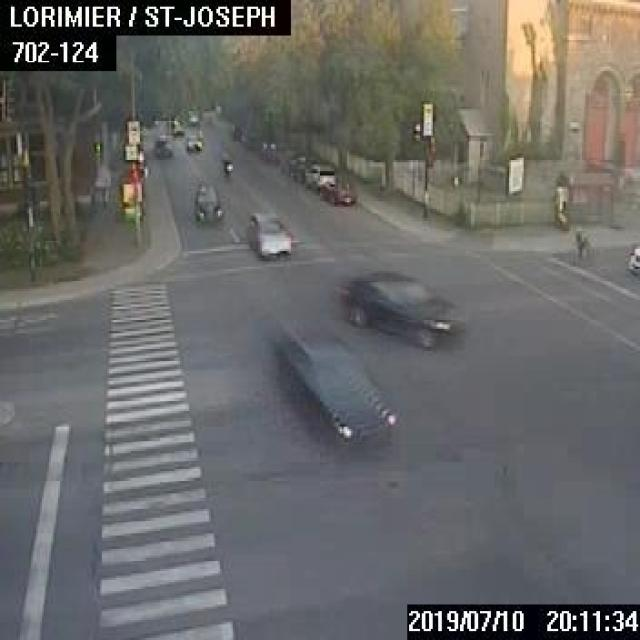cyclist: (568, 224, 592, 263)
vehicle: (339, 271, 464, 347), (247, 212, 290, 256), (193, 180, 221, 222), (284, 150, 316, 179), (319, 180, 355, 202), (303, 162, 333, 188), (626, 242, 638, 275), (153, 133, 171, 155), (185, 134, 201, 149), (221, 155, 231, 178)
